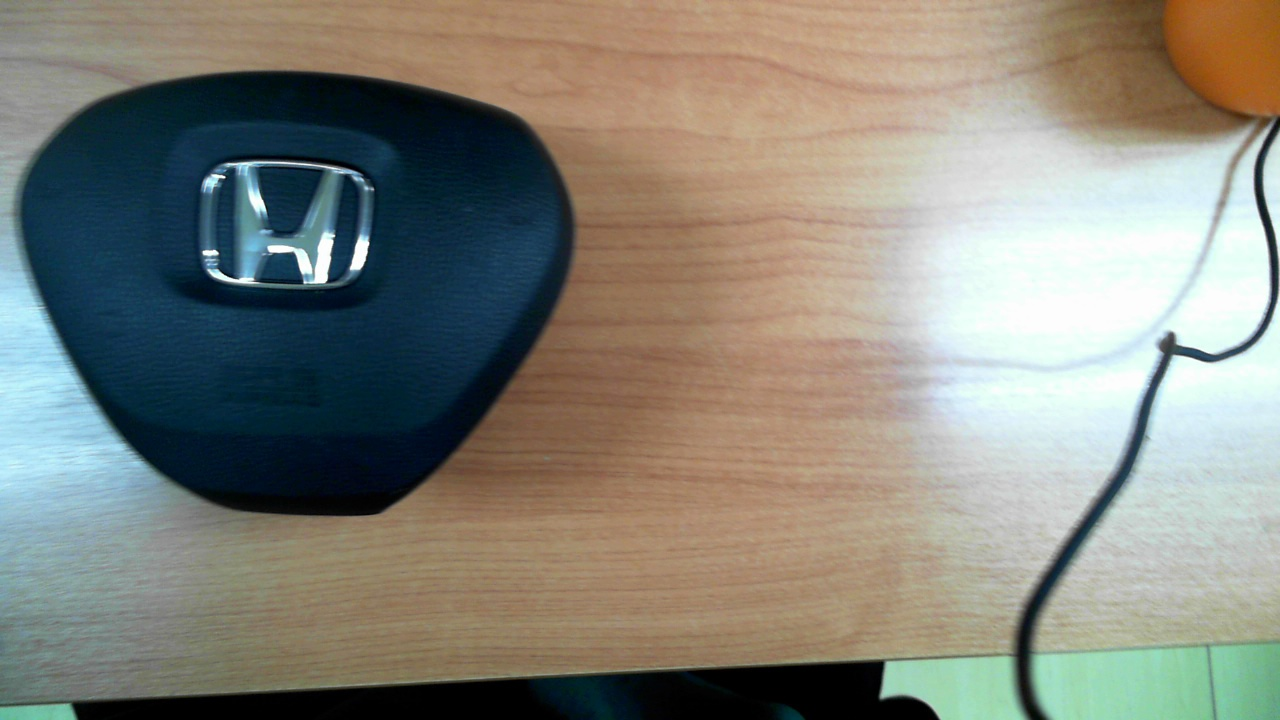Airbag: (12, 69, 575, 517)
Honda: (201, 160, 374, 290)
